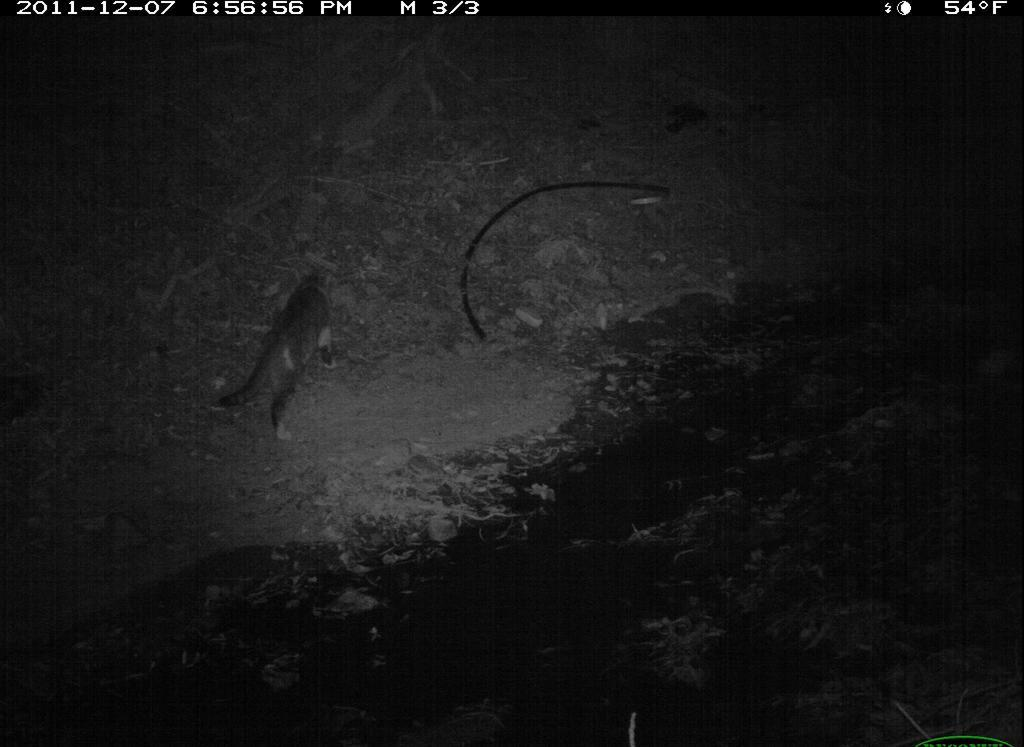cat: (208, 262, 382, 463)
